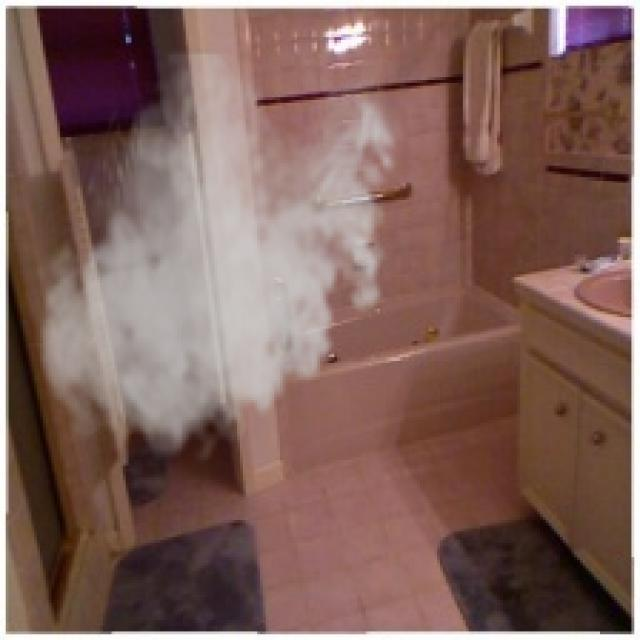Smoke: (31, 49, 408, 472)
